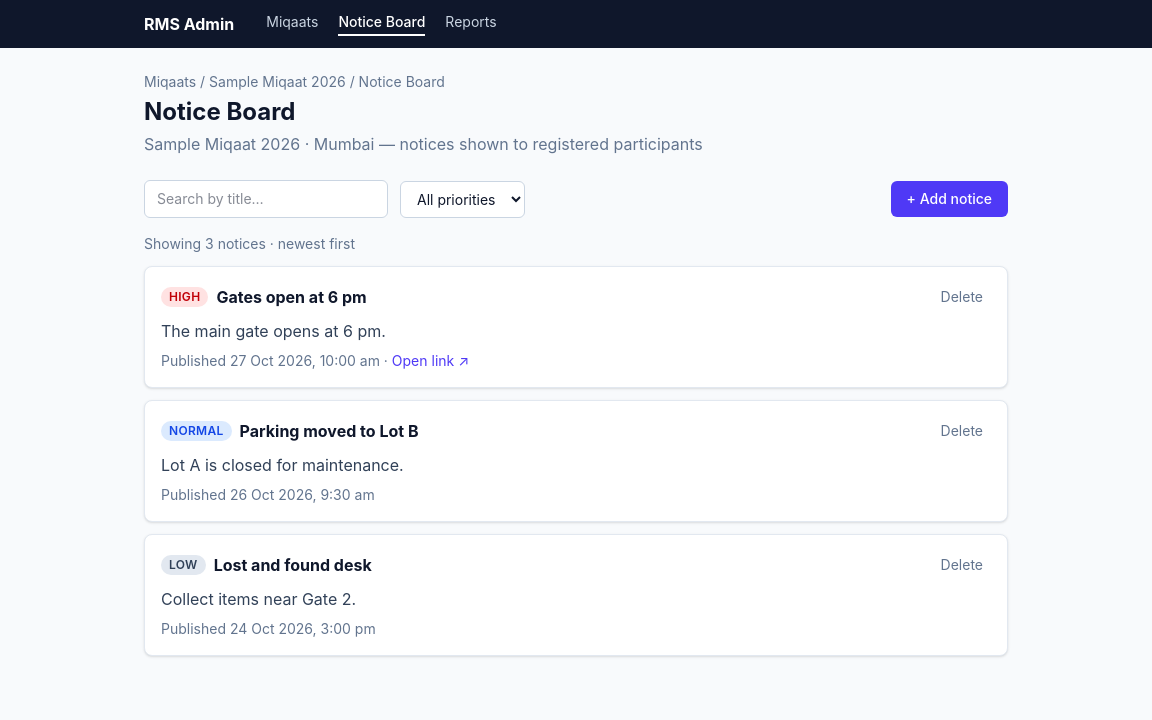
NoticeBoard › deletes a notice only after the user confirms
Check: the text "Showing 3 notices · newest first" is shown, box [144,235,355,252]
Click the button with aria-label "Delete notice: Parking moved to Lot B" at {"x": 962, "y": 431}, box [933,417,991,445]
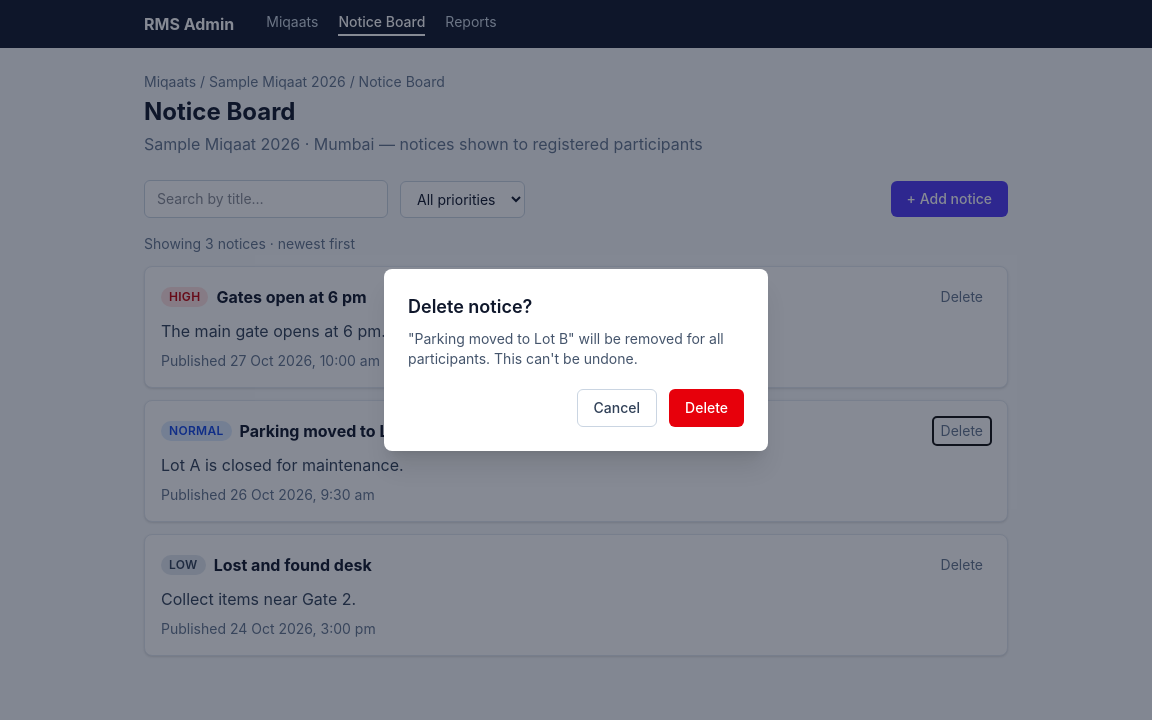
Click the button "Cancel" at {"x": 617, "y": 408}, box [577,389,657,427]
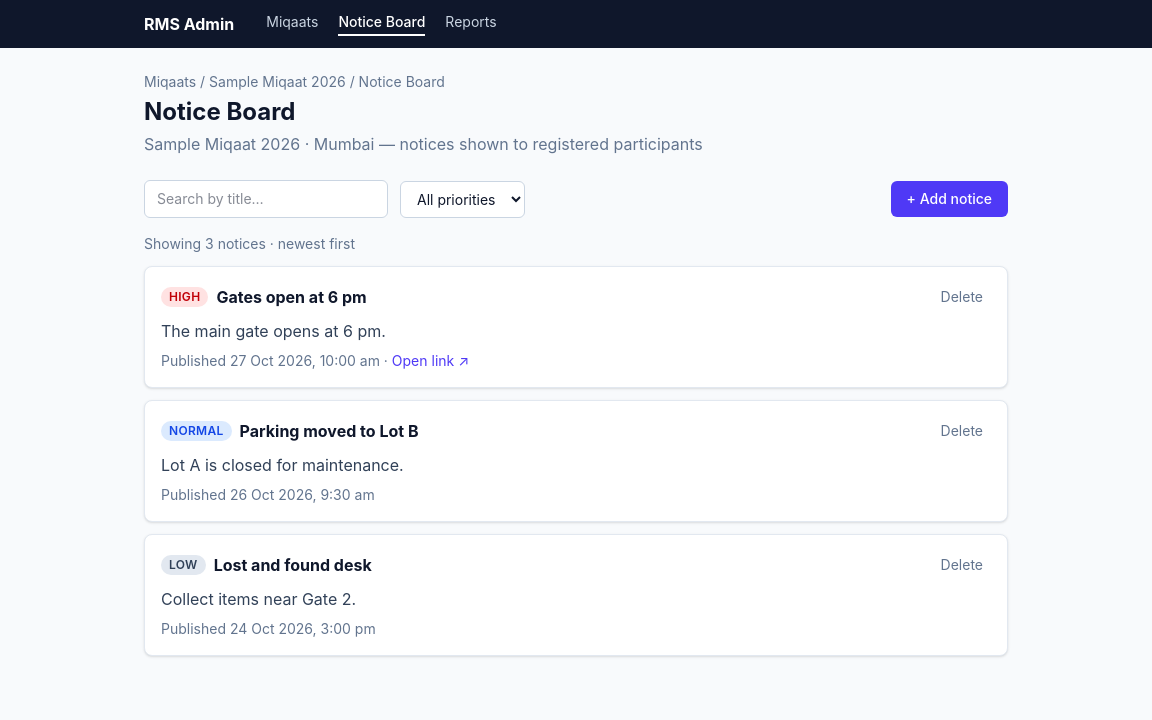
Check: the heading "Parking moved to Lot B" is shown, box [240,419,418,443]
Click the button with aria-label "Delete notice: Parking moved to Lot B" at {"x": 962, "y": 431}, box [933,417,991,445]
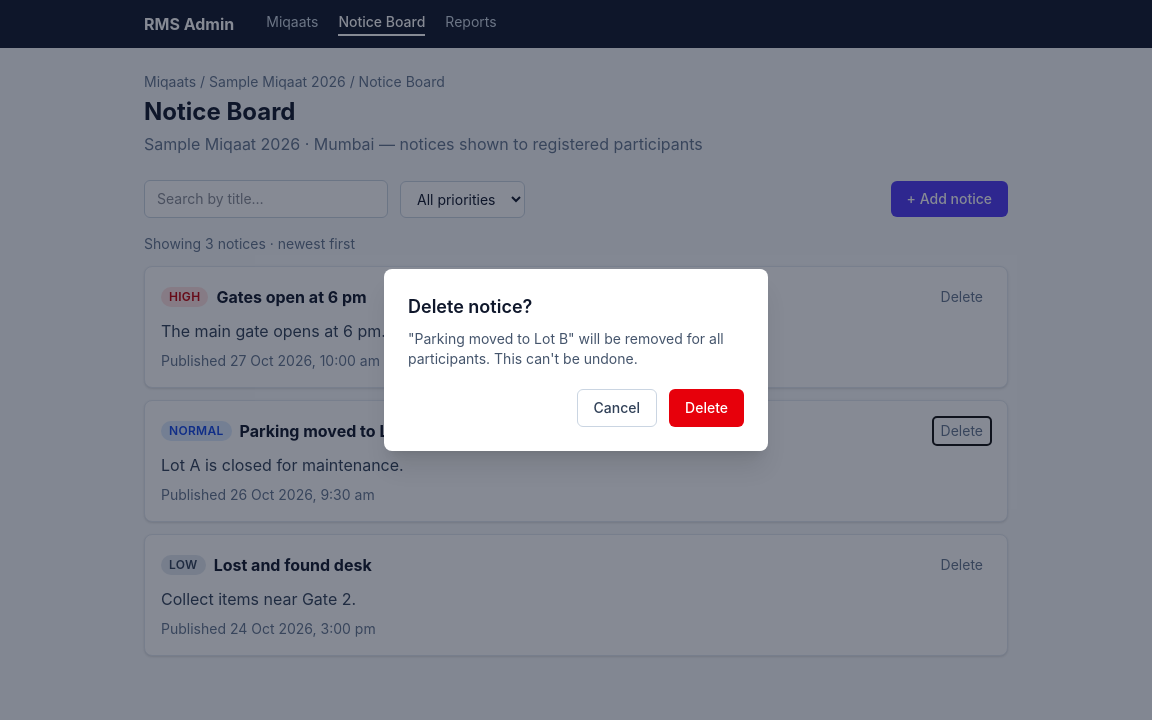
Click the button "Delete" at {"x": 707, "y": 408}, box [669,389,744,427]
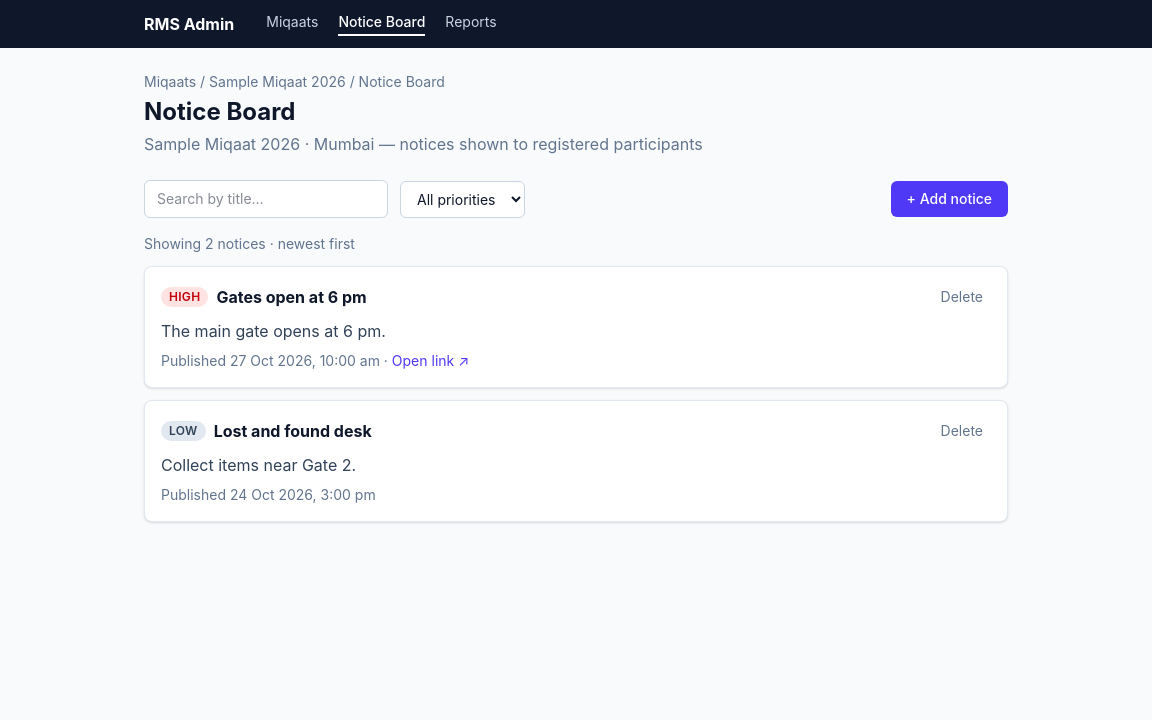
Check: the text "Showing 2 notices · newest first" is shown, box [144,235,355,252]
Check: the heading "Parking moved to Lot B" is gone
Check: the dialog is gone
